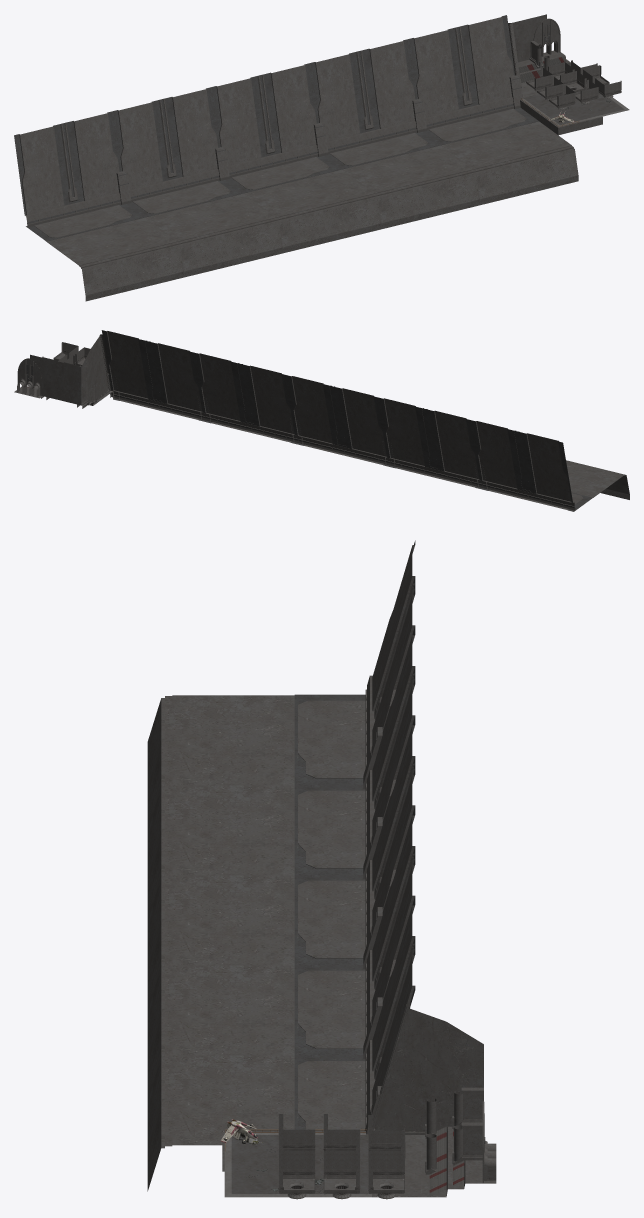
File: env_cor_jeditempleentrance_pre.glb
The picture shows the model from 3 angles, top to bottom: view 1: azimuth 30°, elevation 25°; view 2: azimuth 150°, elevation 25°; view 3: azimuth 270°, elevation 25°; orthographic projection. The views are drawn at different scales.
Visible parts, largest first — view 1: cor_jeditempleentrance_wall_side (4), cor_jeditempleentrance_wall_side (2), cor_jeditempleentrance_wall_side (1), cor_jeditempleentrance_wall_side (3), cor_jeditempleentrance_wall_side, cor_jeditempleentrance_floor_01, cor_jeditempleentrance_wall_01, cor_jeditempleentrance_curb, cor_jeditempleentrance_doorway, cor_jeditempleentrance_floor_02, cor_jeditempleentrance_pillar_top; view 2: cor_jeditempleentrance_wall_side (4), cor_jeditempleentrance_wall_side (2), cor_jeditempleentrance_wall_side (3), cor_jeditempleentrance_wall_side (1), cor_jeditempleentrance_wall_side, cor_jeditempleentrance_wall_01, cor_jeditempleentrance_doorway; view 3: cor_jeditempleentrance_wall_side (4), cor_jeditempleentrance_wall_side (3), cor_jeditempleentrance_wall_side (1), cor_jeditempleentrance_wall_side (2), cor_jeditempleentrance_wall_side, cor_jeditempleentrance_wall_01, cor_jeditempleentrance_floor_01, cor_jeditempleentrance_pillar_top (×3), cor_jeditempleentrance_floor_02, cor_jeditempleentrance_doorway_pillar_01, cor_jeditempleentrance_doorway_pillar_01 (1).
Boxes of the visible parts, x1=… form: cor_jeditempleentrance_wall_side (4): x1=14, y1=111, x2=183, y2=301; cor_jeditempleentrance_wall_side (2): x1=211, y1=63, x2=381, y2=253; cor_jeditempleentrance_wall_side (1): x1=310, y1=39, x2=479, y2=229; cor_jeditempleentrance_wall_side (3): x1=112, y1=87, x2=282, y2=277; cor_jeditempleentrance_wall_side: x1=408, y1=15, x2=578, y2=205; cor_jeditempleentrance_floor_01: x1=522, y1=84, x2=629, y2=126; cor_jeditempleentrance_wall_01: x1=508, y1=14, x2=546, y2=75; cor_jeditempleentrance_curb: x1=520, y1=99, x2=602, y2=135; cor_jeditempleentrance_doorway: x1=533, y1=18, x2=560, y2=56; cor_jeditempleentrance_floor_02: x1=518, y1=50, x2=570, y2=97; cor_jeditempleentrance_pillar_top: x1=560, y1=71, x2=586, y2=92; cor_jeditempleentrance_wall_side (4): x1=471, y1=420, x2=629, y2=511; cor_jeditempleentrance_wall_side (2): x1=286, y1=375, x2=390, y2=466; cor_jeditempleentrance_wall_side (3): x1=378, y1=397, x2=483, y2=489; cor_jeditempleentrance_wall_side (1): x1=194, y1=352, x2=298, y2=444; cor_jeditempleentrance_wall_side: x1=101, y1=330, x2=206, y2=421; cor_jeditempleentrance_wall_01: x1=30, y1=334, x2=110, y2=405; cor_jeditempleentrance_doorway: x1=17, y1=358, x2=41, y2=397; cor_jeditempleentrance_wall_side (4): x1=147, y1=540, x2=415, y2=830; cor_jeditempleentrance_wall_side (3): x1=147, y1=630, x2=415, y2=920; cor_jeditempleentrance_wall_side (1): x1=147, y1=811, x2=415, y2=1100; cor_jeditempleentrance_wall_side (2): x1=147, y1=721, x2=415, y2=1010; cor_jeditempleentrance_wall_side: x1=147, y1=901, x2=415, y2=1191; cor_jeditempleentrance_wall_01: x1=373, y1=1003, x2=483, y2=1134; cor_jeditempleentrance_floor_01: x1=224, y1=1132, x2=371, y2=1197; cor_jeditempleentrance_pillar_top (×3): x1=278, y1=1156, x2=404, y2=1193; cor_jeditempleentrance_floor_02: x1=372, y1=1126, x2=496, y2=1197; cor_jeditempleentrance_doorway_pillar_01: x1=452, y1=1122, x2=482, y2=1165; cor_jeditempleentrance_doorway_pillar_01 (1): x1=452, y1=1087, x2=483, y2=1130.
Size of the model in its own units: 495 by 94.42 by 140.
16 materials, 16 textured.
